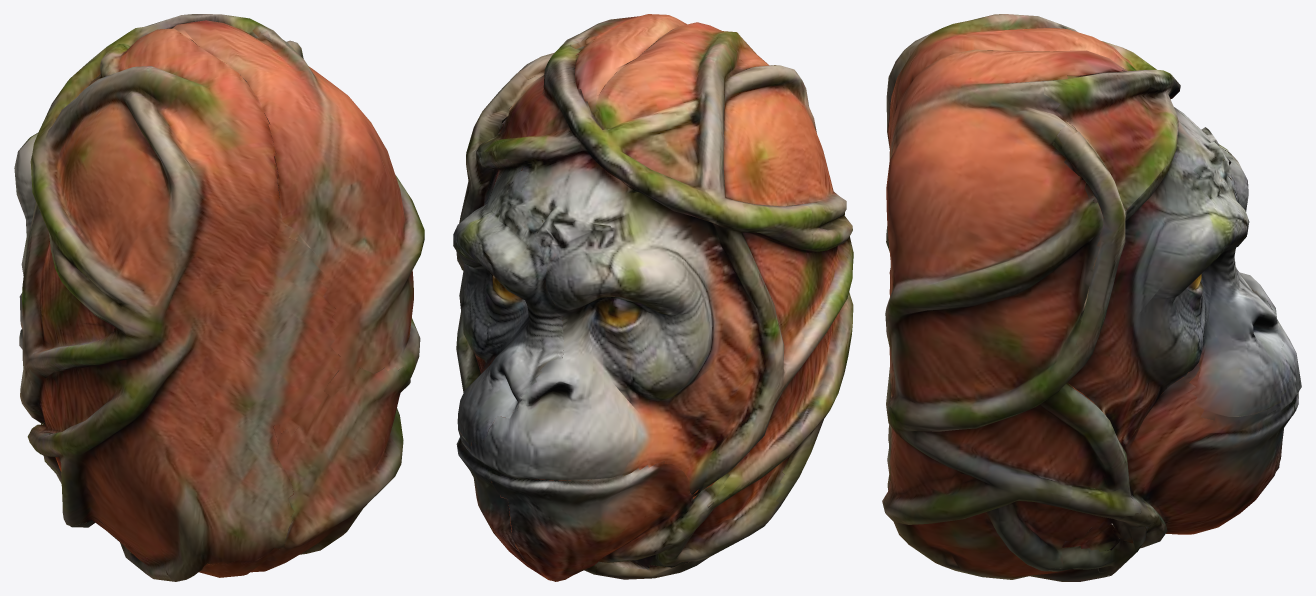
File: orangutan-purba.glb
3 views of the same model, side by side, from view 1: azimuth 30°, elevation 25°; view 2: azimuth 150°, elevation 25°; view 3: azimuth 270°, elevation 25° (orthographic). The views are drawn at different scales.
Parts seen in each view (by area): view 1: orangutan-purba; view 2: orangutan-purba; view 3: orangutan-purba.
Part boxes in pixels (x1,y1,x2,y2): orangutan-purba: (14,14,424,581); orangutan-purba: (453,14,853,581); orangutan-purba: (882,14,1301,581).
Size of the model in its own units: 0.7041 by 1 by 0.7318.
Materials: 1 (1 with a texture image).
